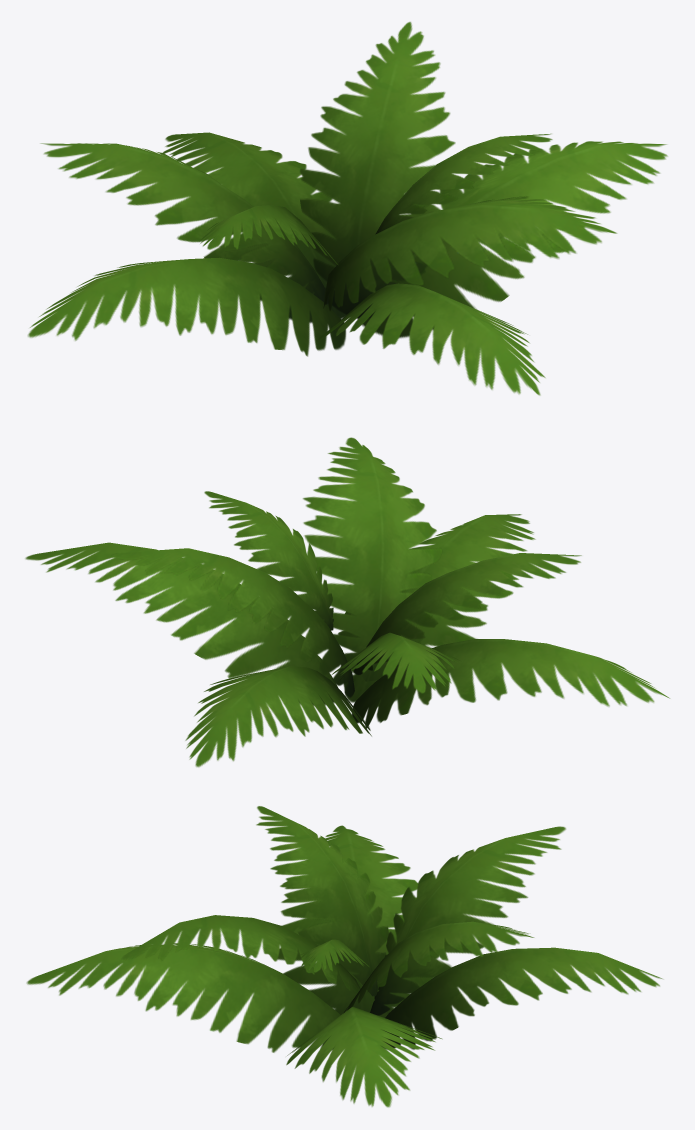
Rendered from fern-1.glb.
3 renders of one model, top to bottom at view 1: azimuth 30°, elevation 25°; view 2: azimuth 150°, elevation 25°; view 3: azimuth 270°, elevation 25°, orthographic. The views are drawn at different scales.
Parts seen in each view (by area): view 1: Fern_1; view 2: Fern_1; view 3: Fern_1.
Part boxes in pixels (left/top/right/bottom): Fern_1: left=27, top=22, right=667, bottom=395; Fern_1: left=25, top=437, right=669, bottom=767; Fern_1: left=26, top=806, right=662, bottom=1107.
Bounding box in the file's own units: 9.05 × 2.69 × 8.49.
Materials: 1 (1 with a texture image).
